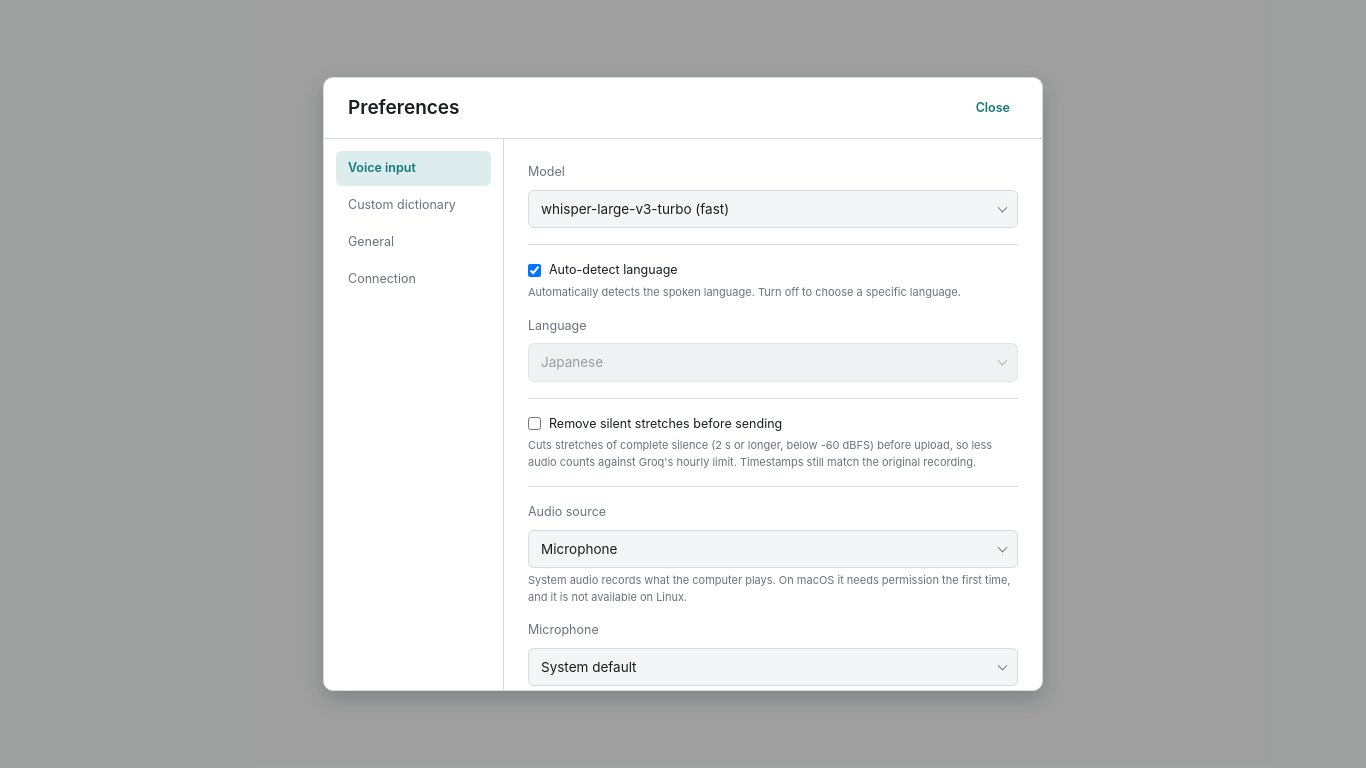
PreferencesView - API key › a save failure surfaces an error instead of silently closing
Step 1. Click the button "Connection" → (414, 279), box [336,262,491,296]
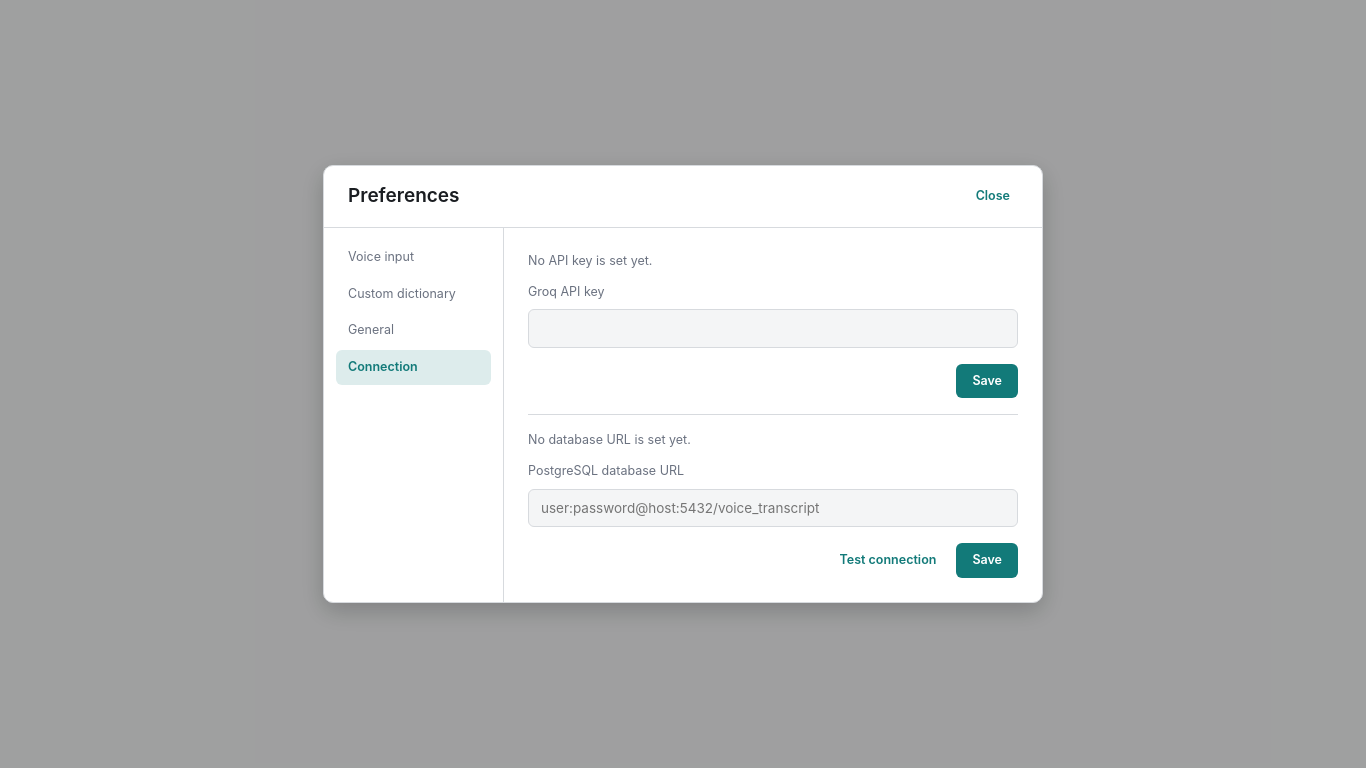
Expected: the password field labelled "Groq API key" is shown
Expected: the text "No API key is set yet." is shown, [528,253,652,268]
Step 2. Type "gsk_test_key" into the password field labelled "Groq API key" → (773, 328), box [528,309,1018,348]
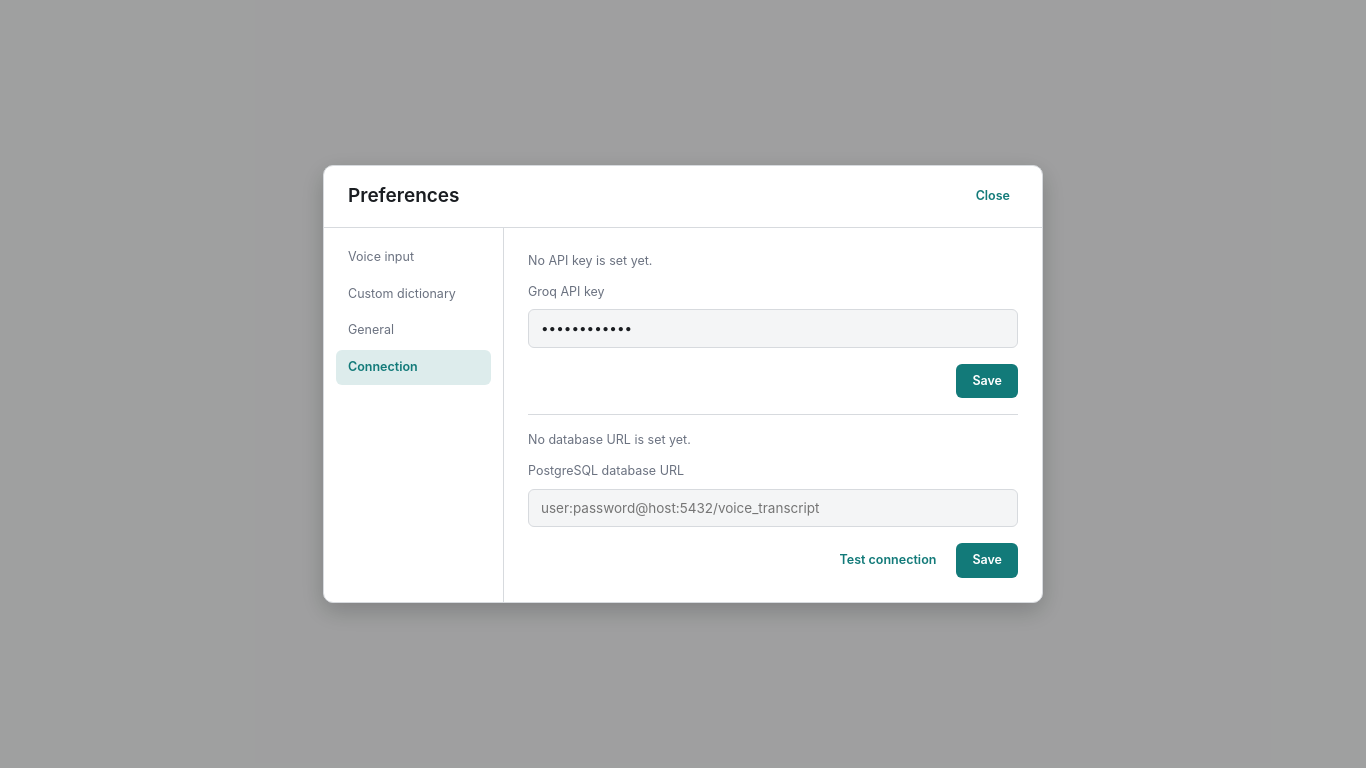
Step 3. Click the button with aria-label "Save Groq API key" → (987, 381), box [956,364,1018,398]
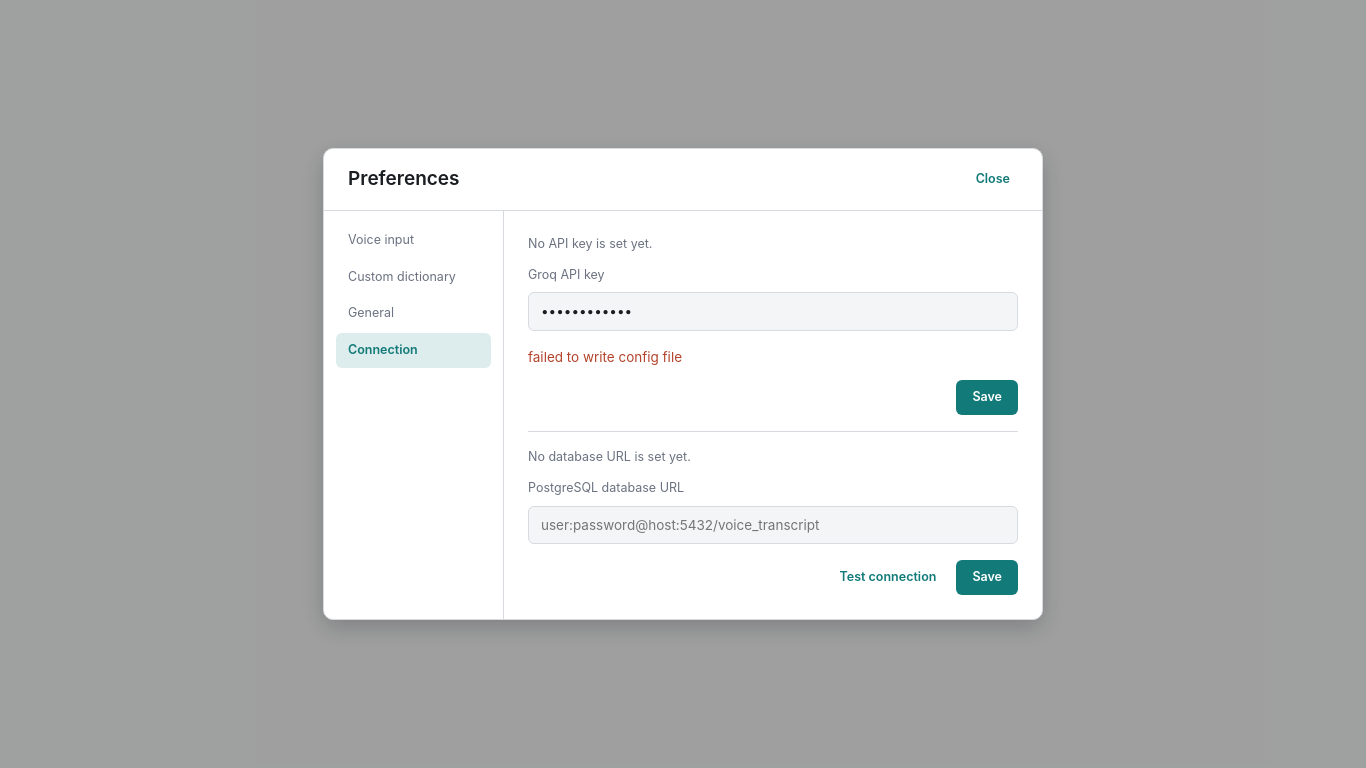
Expected: the text "failed to write config file" is shown, [528,349,682,365]
